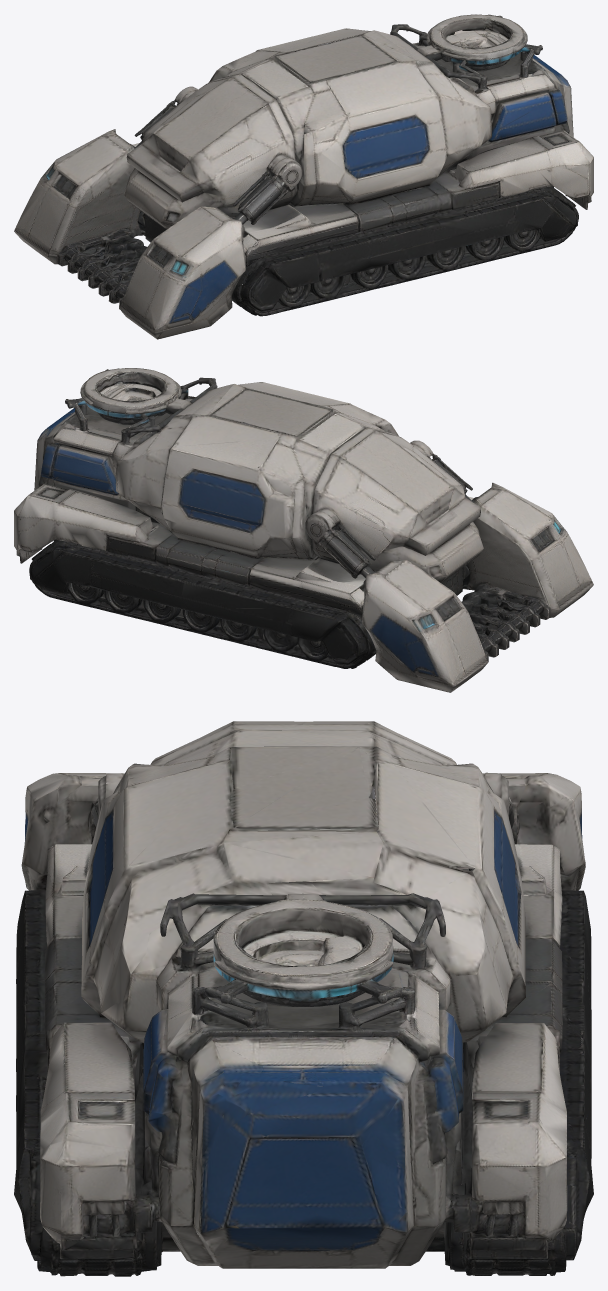
File: chrono-miner.glb
3 views of the same model, one above another, from view 1: azimuth 30°, elevation 25°; view 2: azimuth 150°, elevation 25°; view 3: azimuth 270°, elevation 25° (orthographic). The views are drawn at different scales.
Visible parts, largest first — view 1: Hull; view 2: Hull; view 3: Hull.
Part boxes in pixels (<box>): Hull: <box>14,14,593,339</box>; Hull: <box>14,368,593,692</box>; Hull: <box>14,721,593,1276</box>.
Bounding box in the file's own units: 2 × 0.7187 × 1.11.
Materials: 1 (1 with a texture image).
